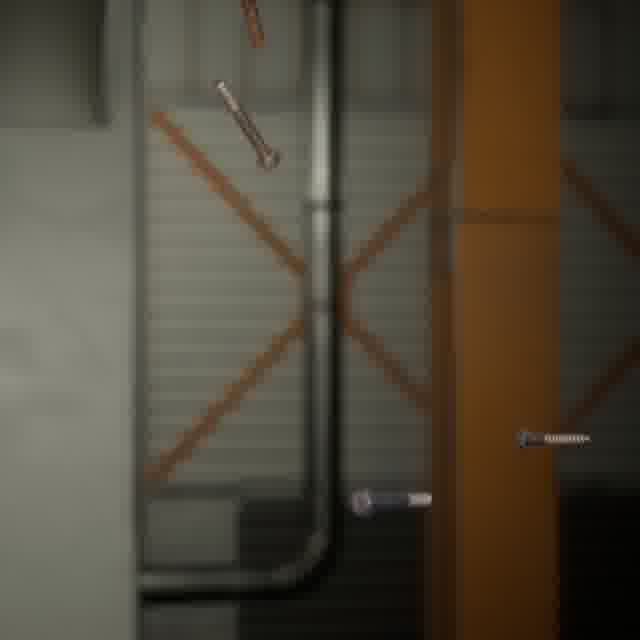bolt: (209, 74, 285, 175), (345, 483, 436, 520), (510, 424, 595, 454), (234, 0, 270, 54)
